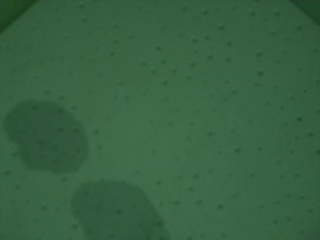Water_detected: (31, 112, 152, 240)
